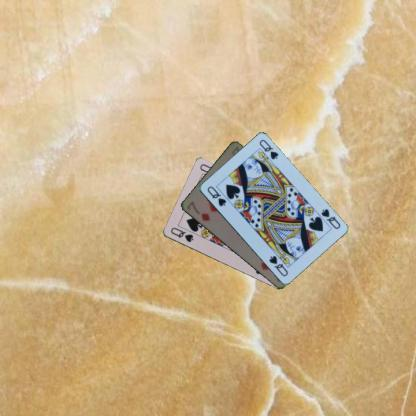7d: (184, 199, 211, 222)
Qs: (318, 206, 341, 231), (205, 183, 227, 208), (168, 225, 194, 244)
